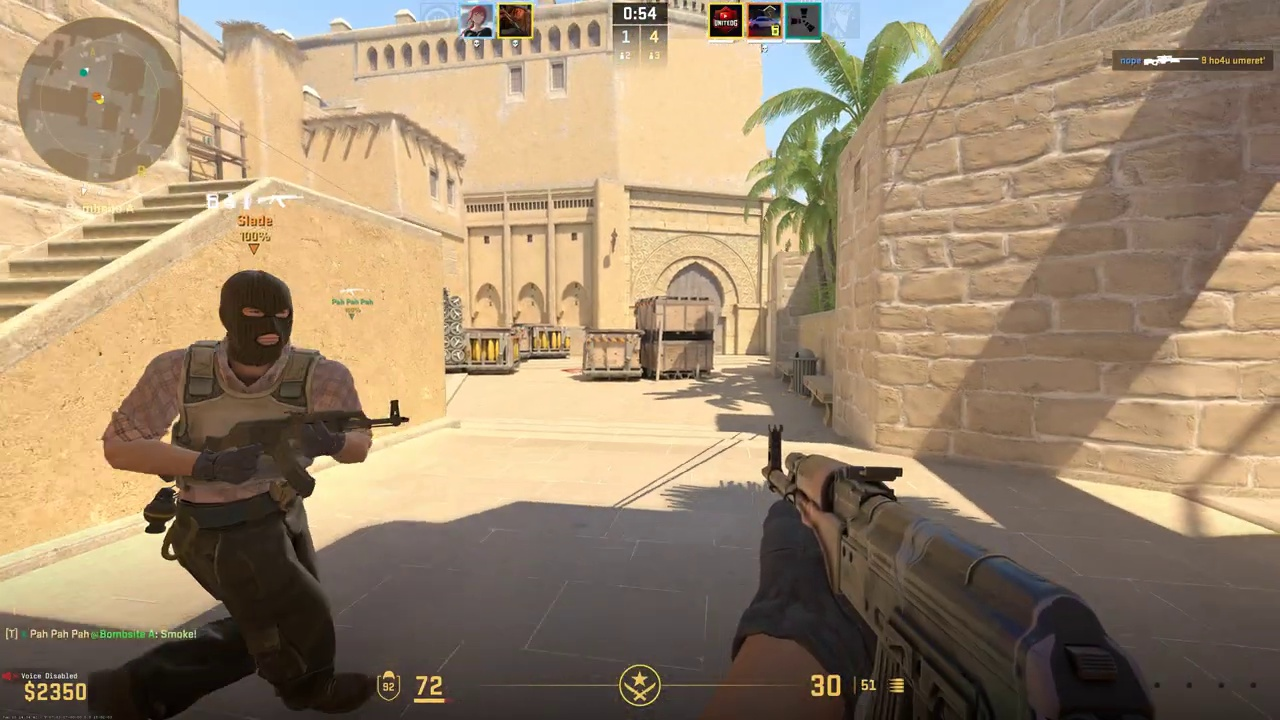Terrorist: (124, 272, 367, 715)
